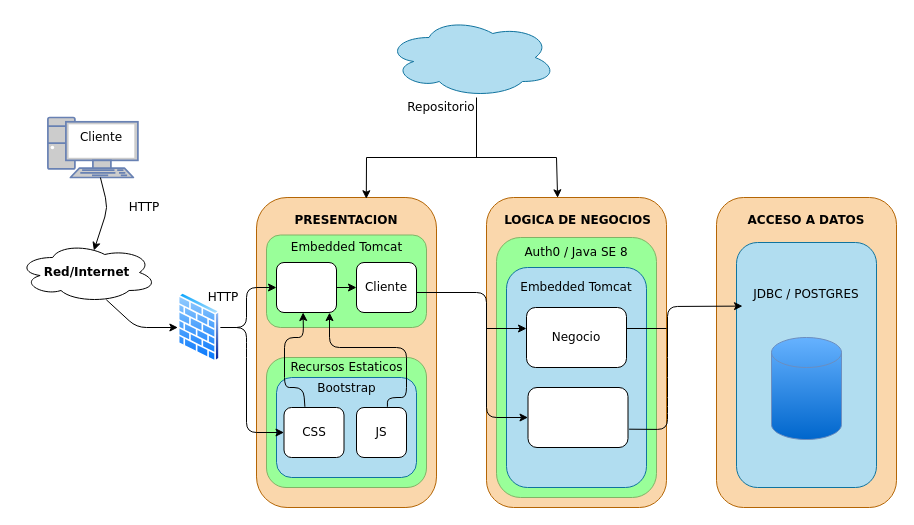
The diagram is 914 pixels wide and 525 high, and some of its shapes have lost their labels. Each missing label, with the box of its shape:
GitHub / GIT: (386, 16, 556, 98)
Servicios: (527, 386, 628, 448)
Vistas (JSPC): (276, 262, 336, 312)
